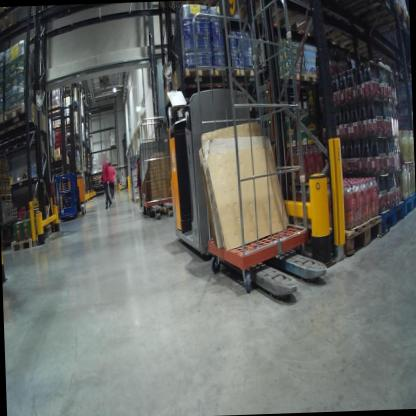forklift: (52, 102, 92, 225)
pallet: (286, 211, 384, 257), (232, 0, 323, 30), (349, 1, 410, 42), (2, 100, 42, 140), (379, 200, 407, 240), (10, 229, 47, 253), (182, 62, 213, 83), (0, 7, 19, 41), (210, 62, 241, 80), (401, 186, 416, 218), (237, 63, 263, 81), (274, 70, 307, 84), (0, 113, 16, 137), (306, 71, 331, 86), (53, 153, 70, 165), (0, 192, 14, 204)
pallet_truck: (159, 80, 342, 302)
